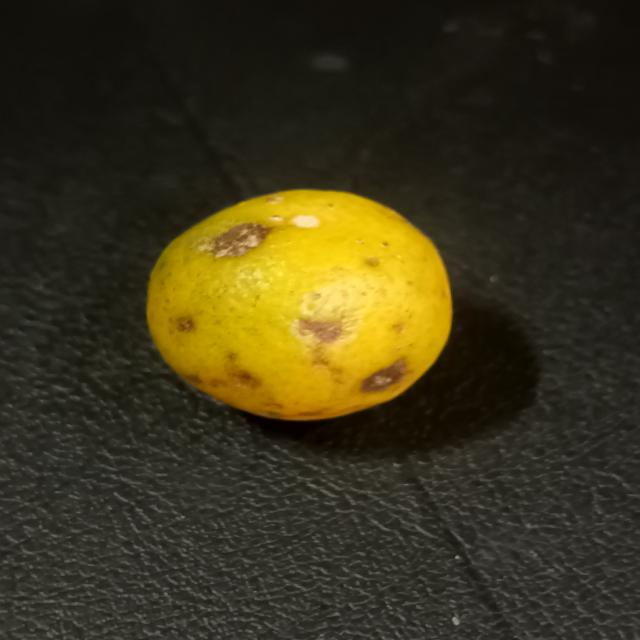black spot: (137, 189, 459, 431)
